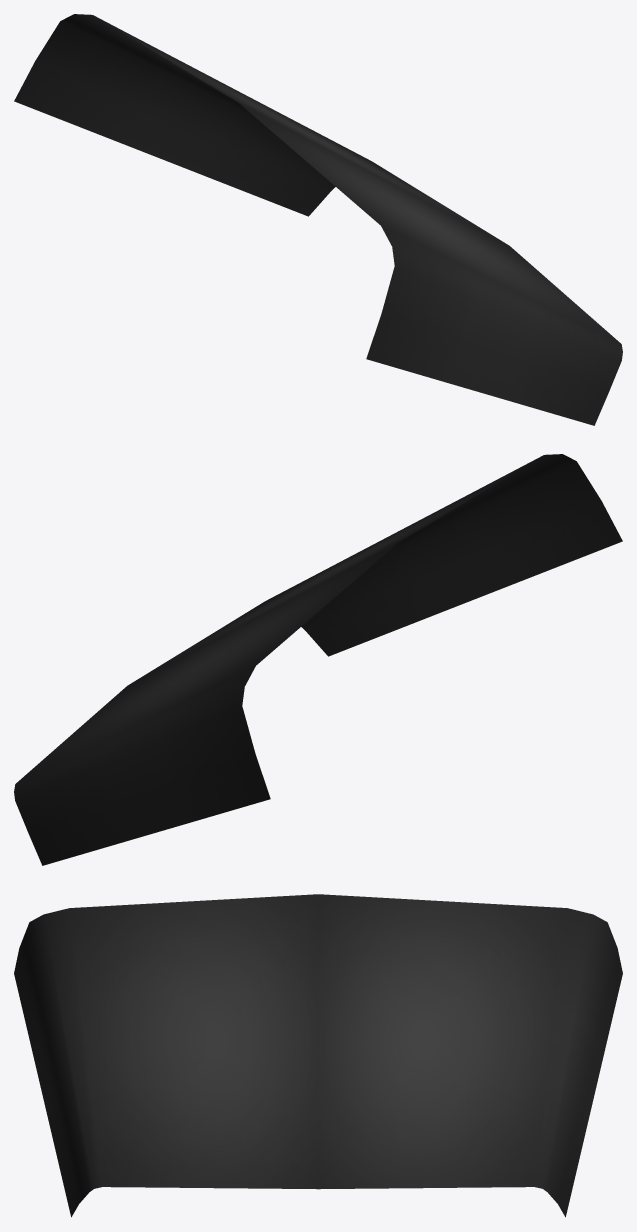
File: ventana.fbx
The picture shows the model from 3 angles, top to bottom: view 1: azimuth 30°, elevation 25°; view 2: azimuth 150°, elevation 25°; view 3: azimuth 270°, elevation 25°; orthographic projection. The views are drawn at different scales.
Parts seen in each view (by area): view 1: ventana; view 2: ventana; view 3: ventana.
Boxes of the visible parts, left/top/right/bottom form: ventana: left=14, top=14, right=622, bottom=425; ventana: left=14, top=454, right=622, bottom=865; ventana: left=14, top=894, right=622, bottom=1217.
Bounding box in the file's own units: 15.09 × 12.2 × 28.81.
